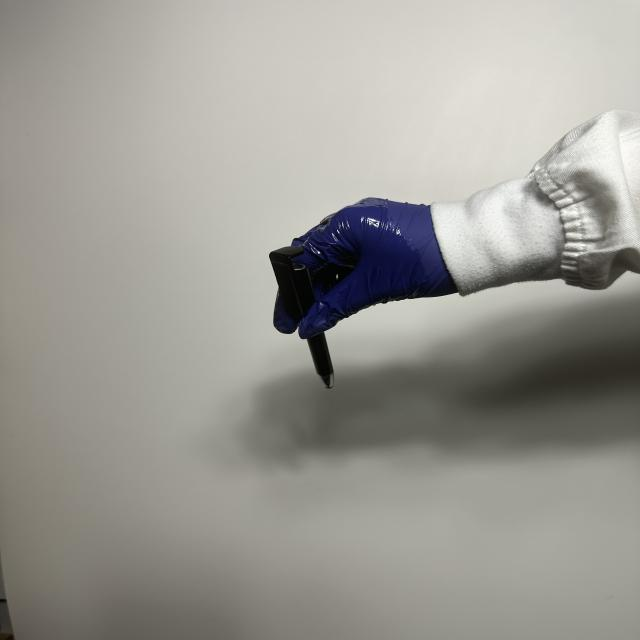gloves_contaminated: (274, 198, 458, 339)
